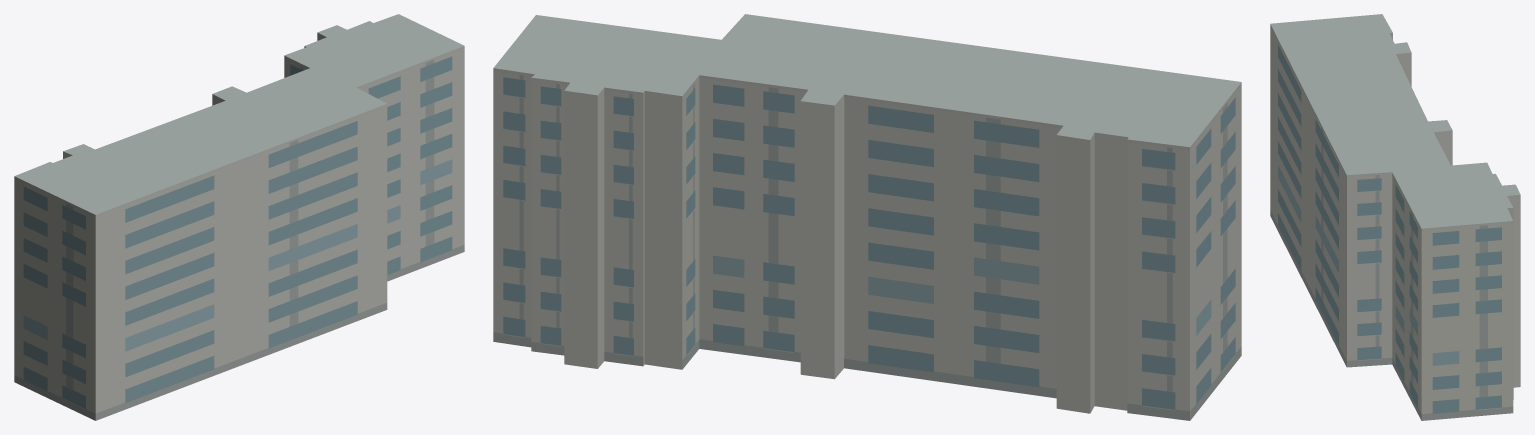
The model's file is survey-upis-32709164.glb.
3 views of the same model, side by side, from view 1: azimuth 30°, elevation 25°; view 2: azimuth 150°, elevation 25°; view 3: azimuth 270°, elevation 25° (orthographic). The views are drawn at different scales.
Parts seen in each view (by area): view 1: survey-upis-32709164.tmp; view 2: survey-upis-32709164.tmp; view 3: survey-upis-32709164.tmp.
Boxes of the visible parts, left/top/right/bottom form: survey-upis-32709164.tmp: left=14, top=14, right=464, bottom=420; survey-upis-32709164.tmp: left=493, top=14, right=1241, bottom=420; survey-upis-32709164.tmp: left=1270, top=14, right=1520, bottom=420.
Bounding box in the file's own units: 55.8 × 23.3 × 27.51.
